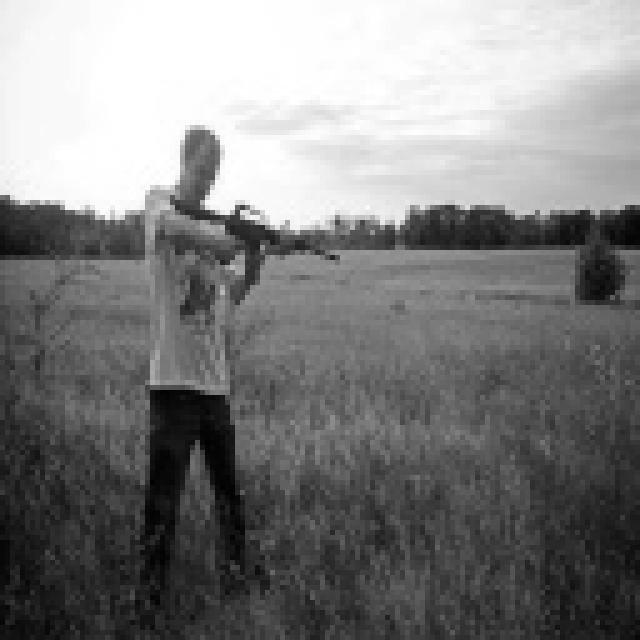Rifle: (121, 183, 362, 312)
